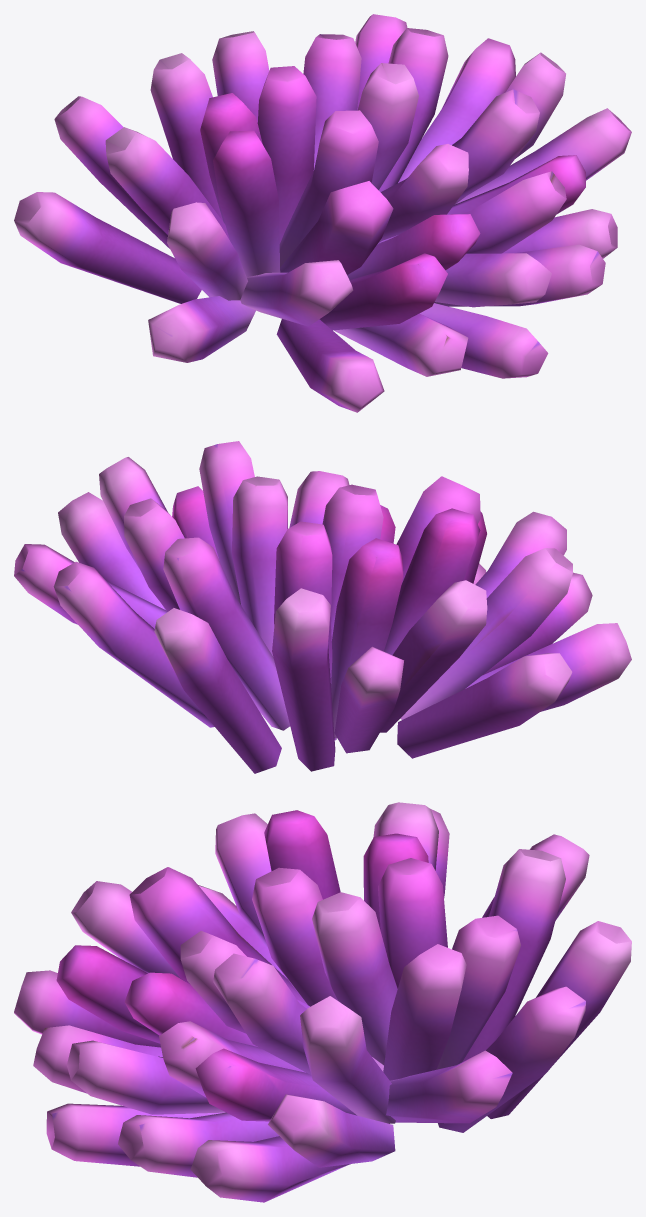
Rendered from coral1.obj.
3 renders of one model, top to bottom at view 1: azimuth 30°, elevation 25°; view 2: azimuth 150°, elevation 25°; view 3: azimuth 270°, elevation 25°, orthographic. The views are drawn at different scales.
Parts seen in each view (by area): view 1: obj1; view 2: obj1; view 3: obj1.
Boxes of the visible parts, bbox=[...] form: obj1: bbox=[14, 14, 631, 412]; obj1: bbox=[14, 441, 631, 773]; obj1: bbox=[14, 802, 631, 1202].
Bounding box in the file's own units: 2.41 × 0.9669 × 2.05.
Materials: 1 (1 with a texture image).
